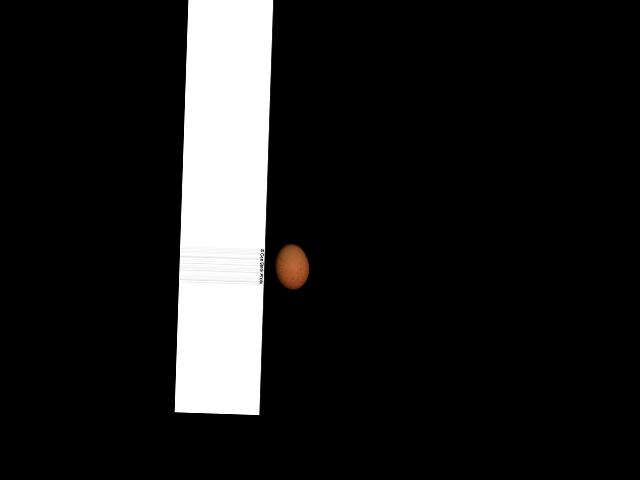egg: (273, 243, 309, 290)
